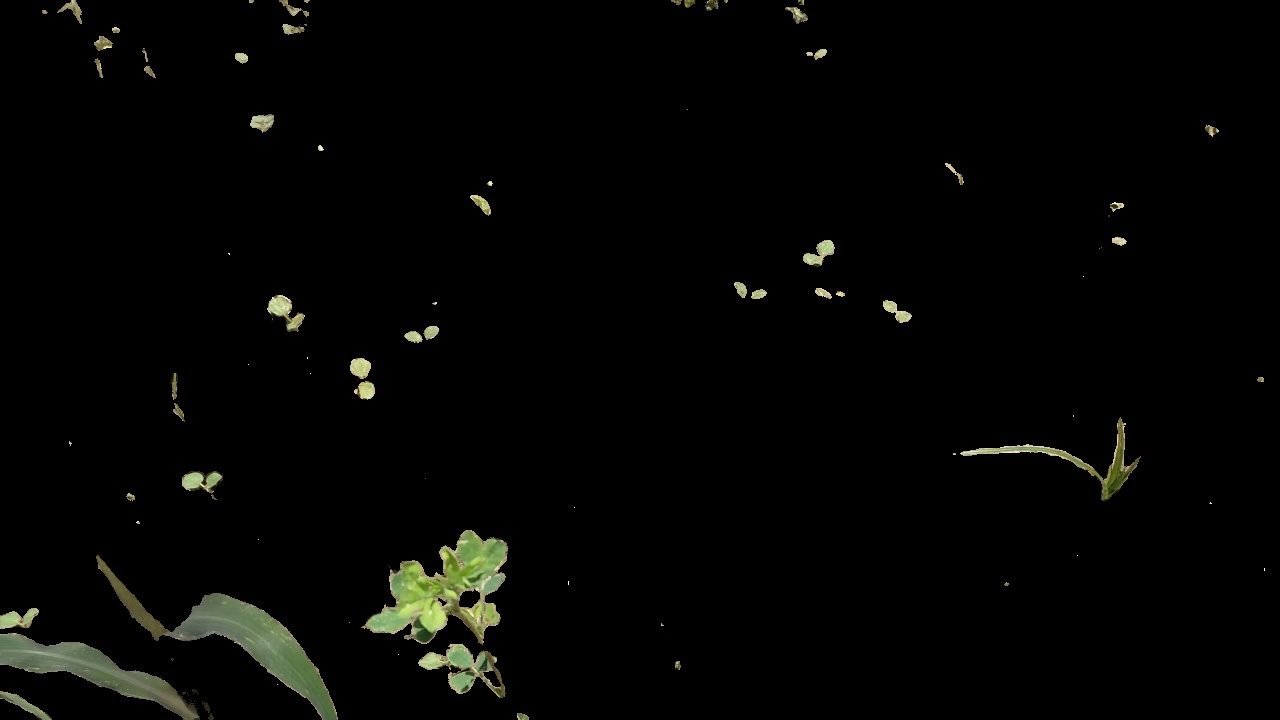crop: (77, 531, 350, 720), (1, 575, 209, 719)
weed: (345, 523, 527, 696), (958, 410, 1145, 500), (796, 228, 841, 272), (262, 294, 306, 339), (178, 464, 228, 495), (345, 358, 378, 404), (727, 274, 773, 300), (885, 294, 917, 331), (797, 44, 837, 66), (400, 327, 450, 344), (246, 113, 280, 135), (783, 7, 814, 23)
